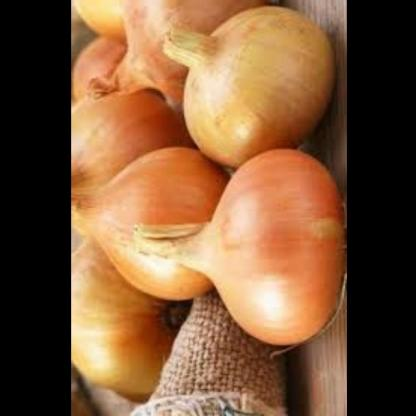onion: (136, 146, 337, 348), (155, 8, 331, 162), (69, 144, 214, 302), (70, 241, 194, 393), (81, 1, 243, 113)
